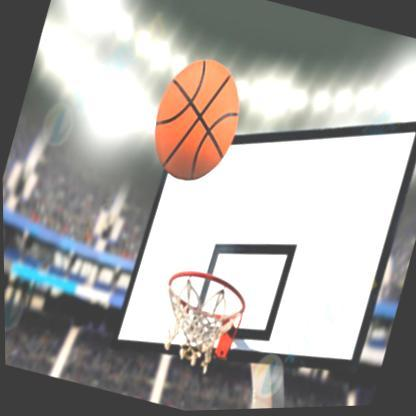basketball: (140, 50, 253, 194)
rim: (148, 265, 253, 377)
